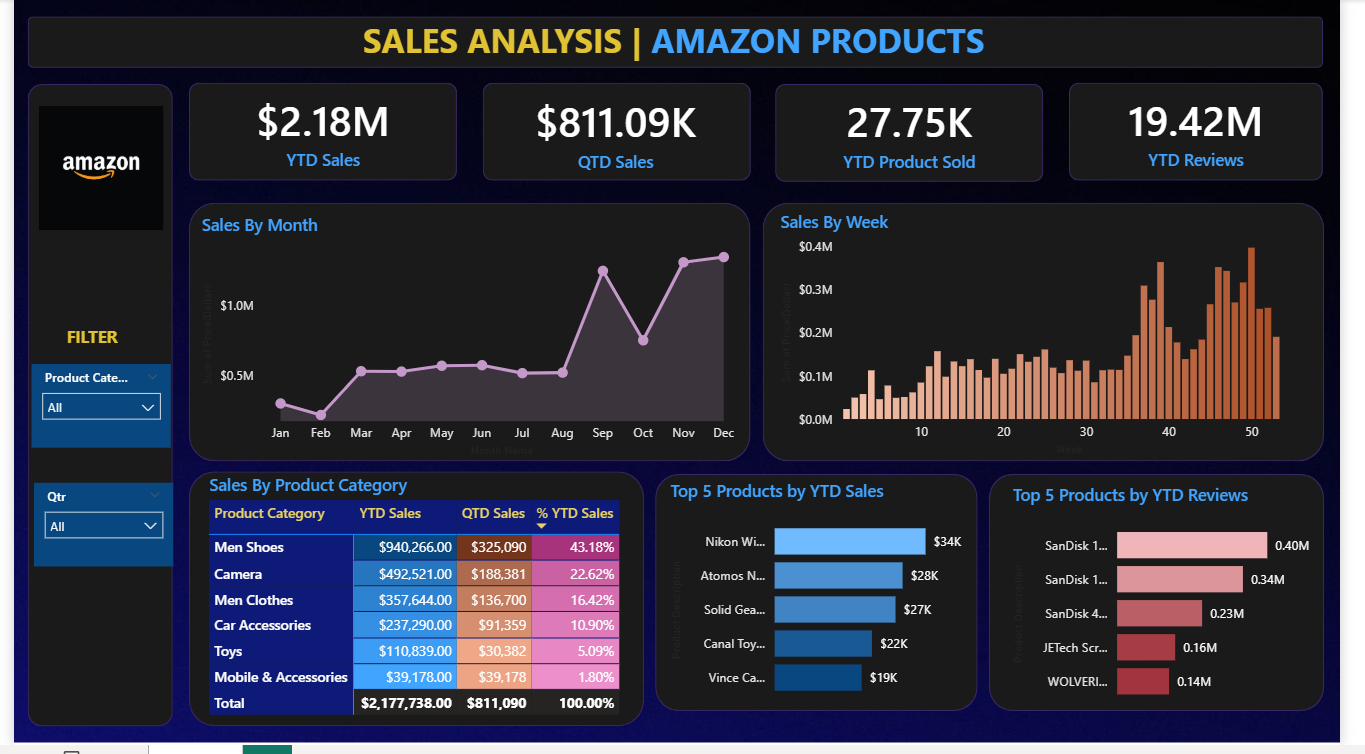

This screenshot's page, from the dashboard's own definition file:
{"tool":"powerbi","page":{"name":"Page 1","canvas":[1280,720],"ordinal":0},"visuals":[{"type":"shape","box":[451.8,81,259.3,94.7],"z":0,"group":"g1"},{"type":"shape","box":[13.7,82.3,140,620.2],"z":0},{"type":"shape","box":[13.7,16.5,1250.1,49.4],"z":1000},{"type":"textbox","box":[332.1,13.7,627.1,52.1],"z":2000},{"type":"shape","box":[168.8,196.2,542,249.7],"z":3000},{"type":"shape","box":[168.8,81,259.3,94.7],"z":4000,"group":"g1"},{"type":"areaChart","title":"Sales By Month","fields":{"Category":["Date Table.Month Name"],"Y":["Sum(Amazon_Data.Price(Dollar))"]},"box":[175.6,205.8,529.7,240.1],"z":4000},{"type":"card","fields":{"Values":["Amazon_Data.YTD Sales"]},"box":[168.8,79.6,259.3,94.7],"z":5000,"group":"g1"},{"type":"shape","box":[723.2,196.2,542,249.7],"z":5000},{"type":"card","fields":{"Values":["Amazon_Data.QTD Sales"]},"box":[451.5,81,259.3,94.7],"z":6000,"group":"g1"},{"type":"columnChart","title":"Sales By Week","fields":{"Category":["Date Table.Week"],"Y":["Sum(Amazon_Data.Price(Dollar))"]},"box":[734.1,204.5,511.8,241.5],"z":6000},{"type":"shape","box":[734.8,82.3,259.3,94.7],"z":7000,"group":"g1"},{"type":"shape","box":[168.8,455.6,439.1,245.6],"z":7000},{"type":"shape","box":[1018.2,81,245.6,94.7],"z":8000,"group":"g1"},{"type":"pivotTable","title":"Sales By Product Category","fields":{"Rows":["Amazon_Data.Product Category"],"Values":["Amazon_Data.YTD Sales1","Amazon_Data.QTD Sales","Amazon_Data.YTD Sales"]},"box":[183.9,456.9,444.6,244.3],"z":8000},{"type":"card","fields":{"Values":["Amazon_Data.YTD Product Sold"]},"box":[734.2,81,259.3,94.7],"z":8001,"group":"g1"},{"type":"card","fields":{"Values":["Amazon_Data.YTD Reviews"]},"box":[1018.2,79.6,245.6,94.7],"z":8002,"group":"g1"},{"type":"group","id":"g1","title":"Group 1","box":[168.8,79.6,1095,97.4],"z":9000},{"type":"shape","box":[618.9,458.3,311.5,229.2],"z":10000},{"type":"shape","box":[941.3,458.3,323.8,229.2],"z":11000},{"type":"barChart","title":"Top 5 Products by YTD Sales","fields":{"Category":["Amazon_Data.Product Description"],"Y":["Amazon_Data.YTD Sales"]},"box":[628.5,463.8,301.9,223.7],"z":12000},{"type":"barChart","title":"Top 5 Products by YTD Reviews","fields":{"Y":["Amazon_Data.YTD Reviews"],"Category":["Amazon_Data.Product Description"]},"box":[959.2,466.6,301.9,223.7],"z":13000},{"type":"slicer","fields":{"Values":["Amazon_Data.Product Category"]},"box":[16.5,352.7,134.5,81],"z":14000},{"type":"slicer","fields":{"Values":["Date Table.Qtr"]},"box":[19.2,466.6,134.5,81],"z":14001},{"type":"image","box":[16.5,97.4,134.5,130.4],"z":14002},{"type":"textbox","box":[45.3,310.1,75.5,32.9],"z":14003}]}

Visuals, with their boxes in screenshot pixels (x1, y1, x2, y2), scaled from the page's 1280x720 canvas onto the 1365x754 screenshot:
shape: 482,85,758,184
shape: 15,86,164,736
shape: 15,17,1348,69
textbox: 354,14,1023,69
shape: 180,205,758,467
shape: 180,85,457,184
"Sales By Month" areaChart: 187,216,752,467
card - Amazon_Data.YTD Sales: 180,83,457,183
shape: 771,205,1349,467
card - Amazon_Data.QTD Sales: 481,85,758,184
"Sales By Week" columnChart: 783,214,1329,467
shape: 784,86,1060,185
shape: 180,477,648,734
shape: 1086,85,1348,184
"Sales By Product Category" pivotTable: 196,478,670,734
card - Amazon_Data.YTD Product Sold: 783,85,1059,184
card - Amazon_Data.YTD Reviews: 1086,83,1348,183
"Group 1" group: 180,83,1348,185
shape: 660,480,992,720
shape: 1004,480,1349,720
"Top 5 Products by YTD Sales" barChart: 670,486,992,720
"Top 5 Products by YTD Reviews" barChart: 1023,489,1345,723
slicer - Amazon_Data.Product Category: 18,369,161,454
slicer - Date Table.Qtr: 20,489,164,573
image: 18,102,161,239
textbox: 48,325,129,359
